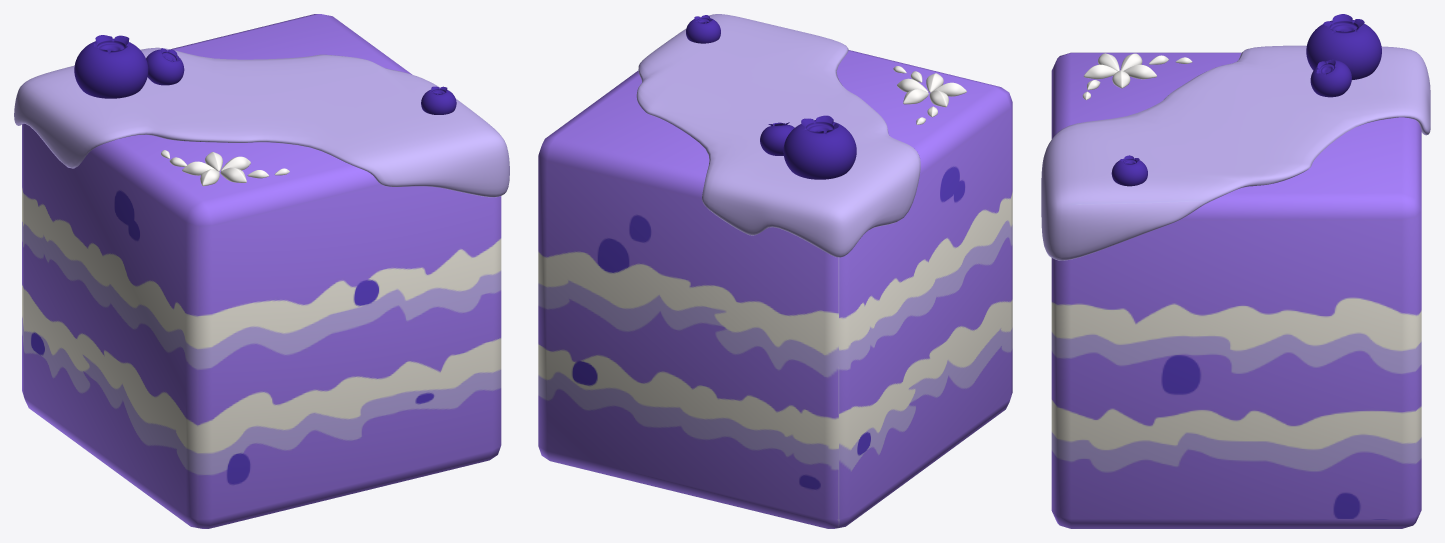
Rendered from Blueberry_1.fbx.
3 views of the same model, side by side, from view 1: azimuth 30°, elevation 25°; view 2: azimuth 150°, elevation 25°; view 3: azimuth 270°, elevation 25° (orthographic). The views are drawn at different scales.
Visible parts, largest first — view 1: Cube, Cube.001, Sphere, Sphere.001, Sphere.002; view 2: Cube, Cube.001, Sphere, Sphere.002, Sphere.001; view 3: Cube, Cube.001, Sphere, Sphere.001, Sphere.002.
Boxes of the visible parts, x1=… form: Cube: x1=22, y1=14, x2=501, y2=528; Cube.001: x1=14, y1=47, x2=509, y2=197; Sphere: x1=74, y1=35, x2=148, y2=98; Sphere.001: x1=146, y1=48, x2=184, y2=85; Sphere.002: x1=421, y1=86, x2=456, y2=114; Cube: x1=538, y1=50, x2=1012, y2=528; Cube.001: x1=636, y1=14, x2=920, y2=257; Sphere: x1=783, y1=115, x2=856, y2=179; Sphere.002: x1=686, y1=15, x2=720, y2=43; Sphere.001: x1=760, y1=122, x2=794, y2=155; Cube: x1=1051, y1=52, x2=1421, y2=528; Cube.001: x1=1041, y1=45, x2=1430, y2=260; Sphere: x1=1306, y1=14, x2=1381, y2=79; Sphere.001: x1=1310, y1=59, x2=1351, y2=97; Sphere.002: x1=1111, y1=155, x2=1147, y2=186.
Size of the model in its own units: 211 by 231 by 211.
3 materials, 1 textured.
